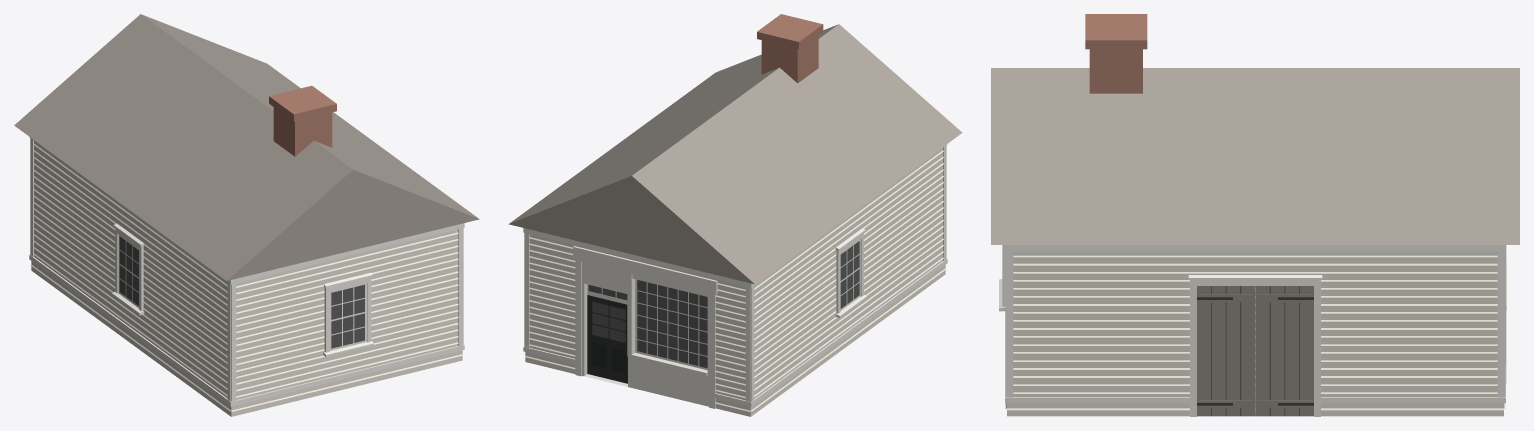
Rendered from recon_1835_core_c1_019__inferred_1835.glb.
3 views of the same model, side by side, from view 1: azimuth 30°, elevation 25°; view 2: azimuth 150°, elevation 25°; view 3: azimuth 270°, elevation 25° (orthographic). The views are drawn at different scales.
Visible parts, largest first — view 1: recon_1835_core_c1_019__inferred_1835; view 2: recon_1835_core_c1_019__inferred_1835; view 3: recon_1835_core_c1_019__inferred_1835.
Boxes of the visible parts, left/top/right/bottom form: recon_1835_core_c1_019__inferred_1835: left=14, top=14, right=479, bottom=416; recon_1835_core_c1_019__inferred_1835: left=508, top=14, right=962, bottom=416; recon_1835_core_c1_019__inferred_1835: left=991, top=14, right=1519, bottom=416.
Size of the model in its own units: 5.74 by 5.56 by 8.35.
